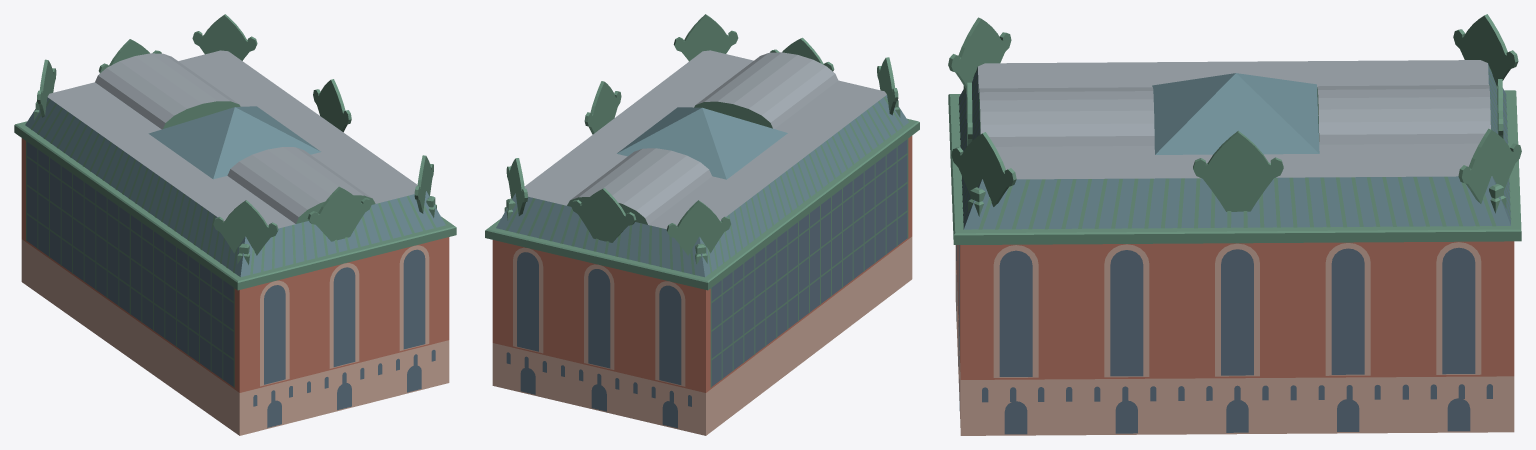
3 views of the same model, side by side, from view 1: azimuth 30°, elevation 25°; view 2: azimuth 150°, elevation 25°; view 3: azimuth 270°, elevation 25° (orthographic). The views are drawn at different scales.
Parts seen in each view (by area): view 1: harold-washington-library-center; view 2: harold-washington-library-center; view 3: harold-washington-library-center.
Boxes of the visible parts, <box> form: harold-washington-library-center: <box>14,14,456,435</box>; harold-washington-library-center: <box>485,14,919,435</box>; harold-washington-library-center: <box>948,14,1521,435</box>.
Bounding box in the file's own units: 66.58 × 63.87 × 112.
